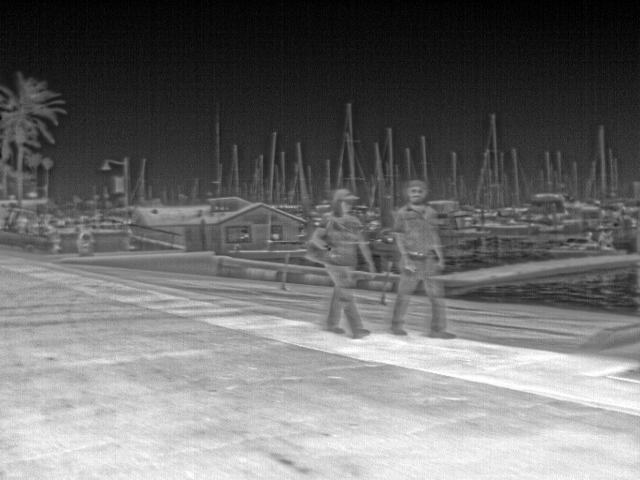person: (381, 178, 455, 339), (310, 188, 380, 338)
